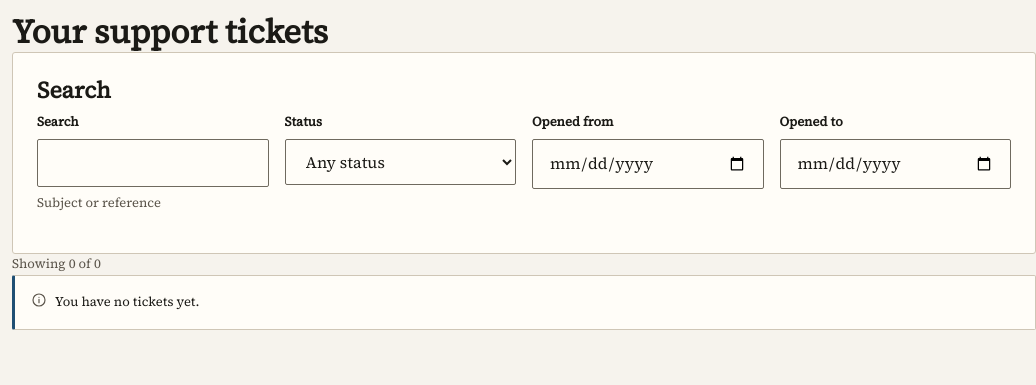
Test: the history screen › tells the reader when nothing matches, and says why
Expected: the text "You have no tickets yet." is shown, [55,292,200,313]
Step 1. Type "nothing" into the search field labelled "Search" → (153, 163), box [37,139,268,187]
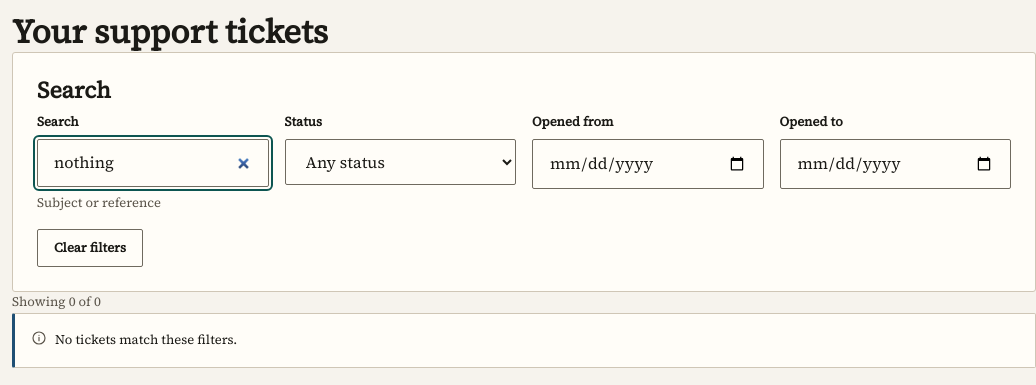
Expected: the text "No tickets match these filters." is shown, [55,330,237,351]
